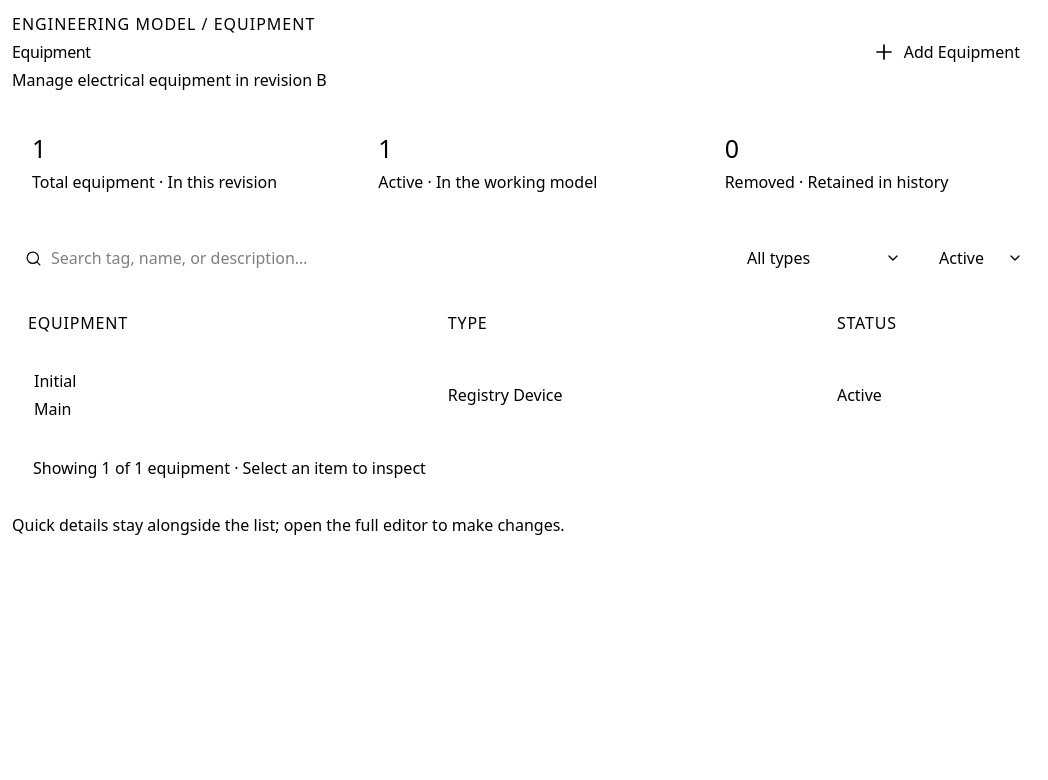
Test case: revision model workspace › debounces server search and ignores superseded responses
The width and height of the screenshot is (1048, 780).
Expected: the text "Initial" is shown, [34, 370, 76, 392]
Type "old" into the field named "Search equipment" at point(380, 258), box [51, 246, 709, 270]
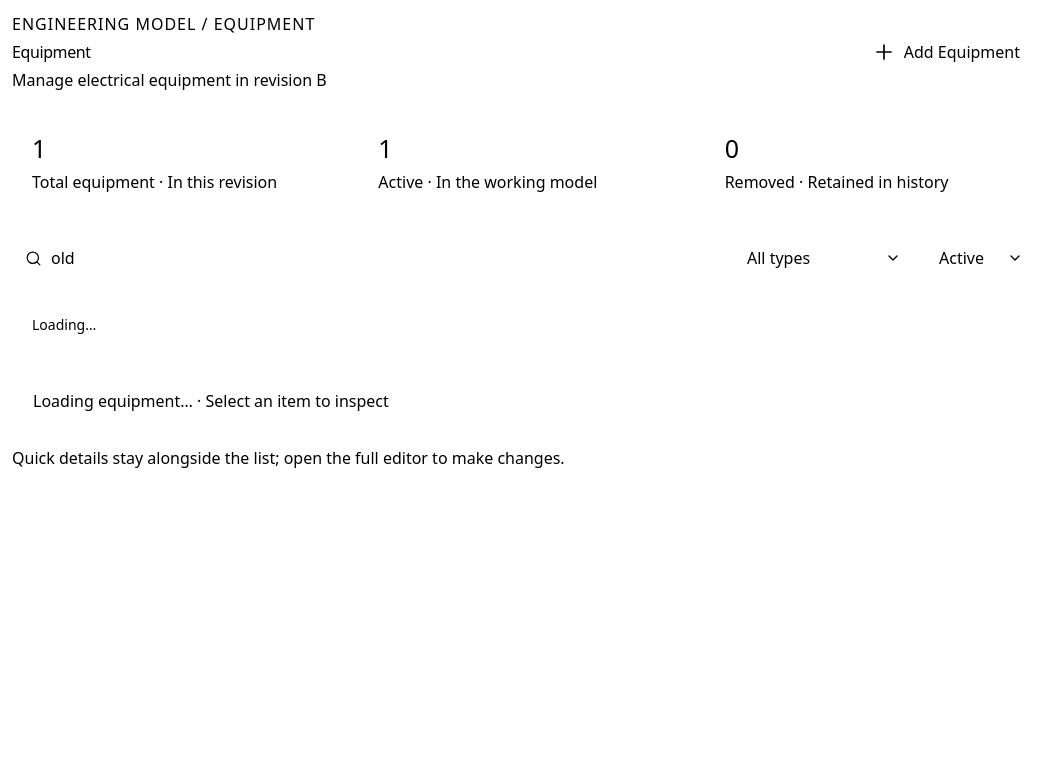
Replace the text in the field named "Search equipment" with "latest" at point(380, 258), box [51, 246, 709, 270]
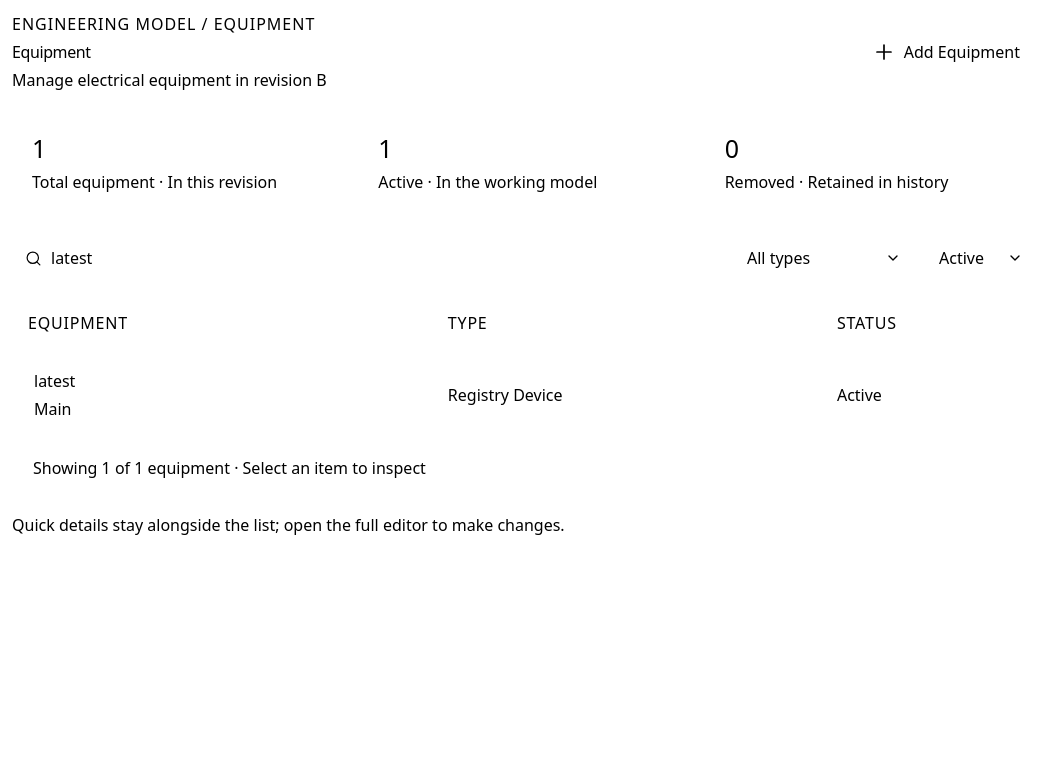
Result: the text "latest" is shown at [34, 370, 75, 392]
